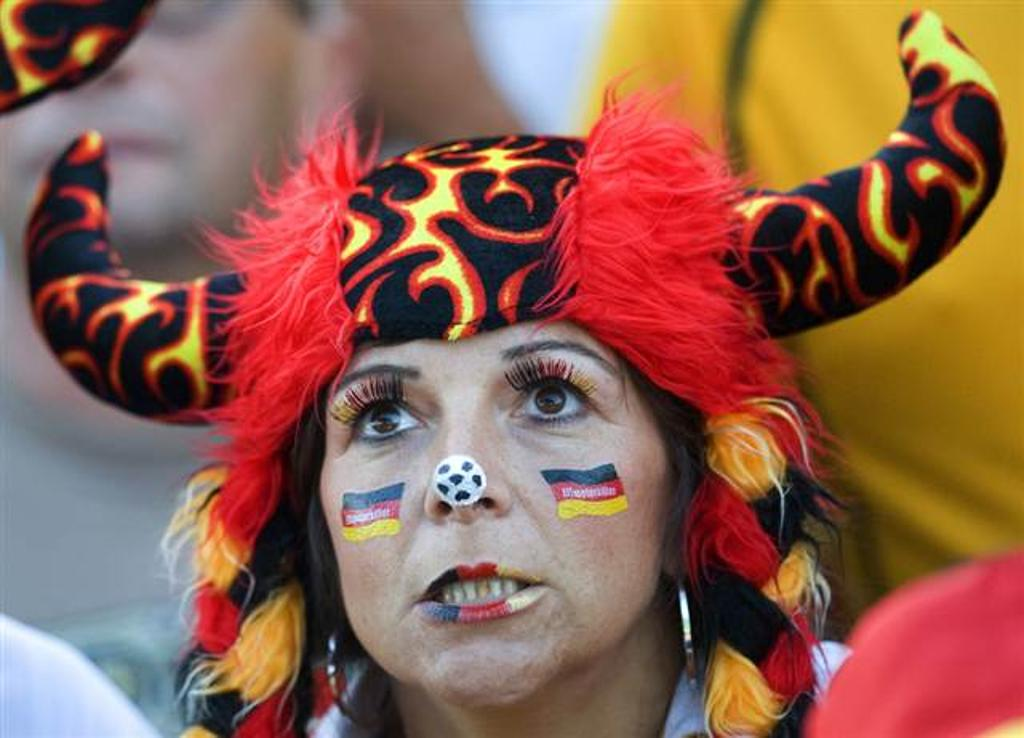face: (322, 336, 670, 712)
